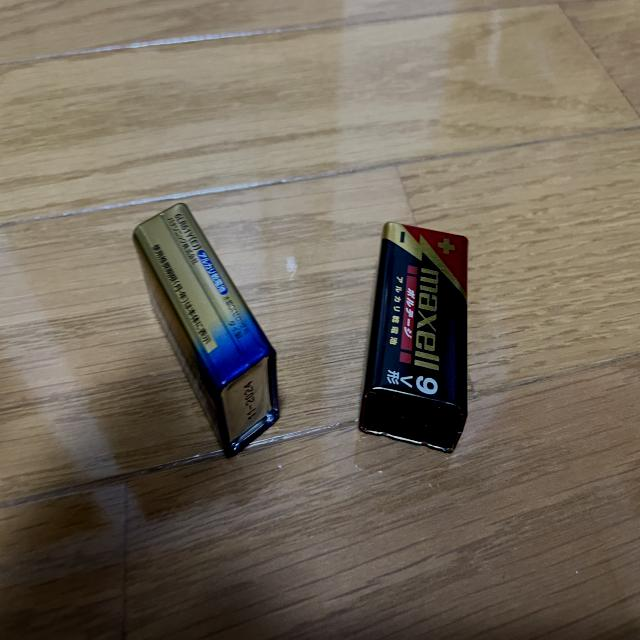9V: (133, 201, 281, 457), (360, 221, 470, 453)
